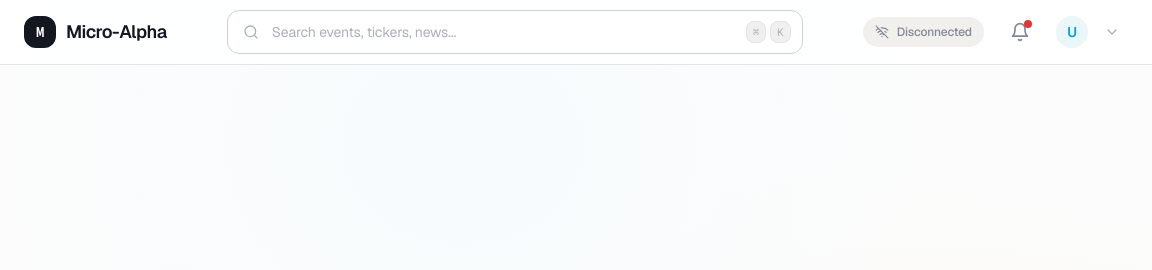
Test case: Header › unauthenticated state › shows "User" as fallback name in menu
# Open user menu (find the button by avatar)
Click the button "U": (1088, 32) [1048,8,1128,56]
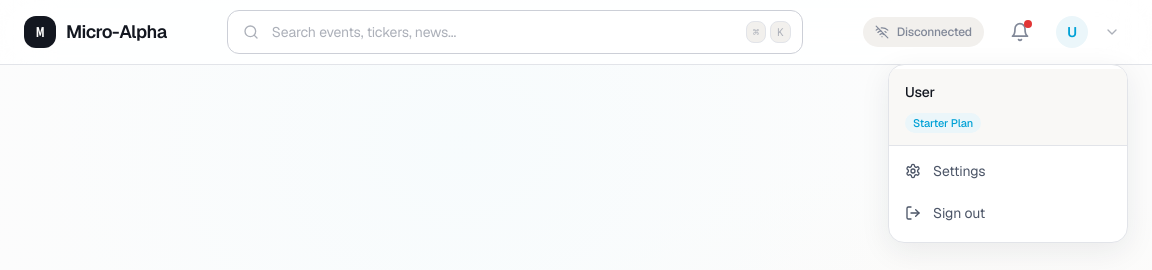
Result: the text "User" is shown at [905,83,935,101]
